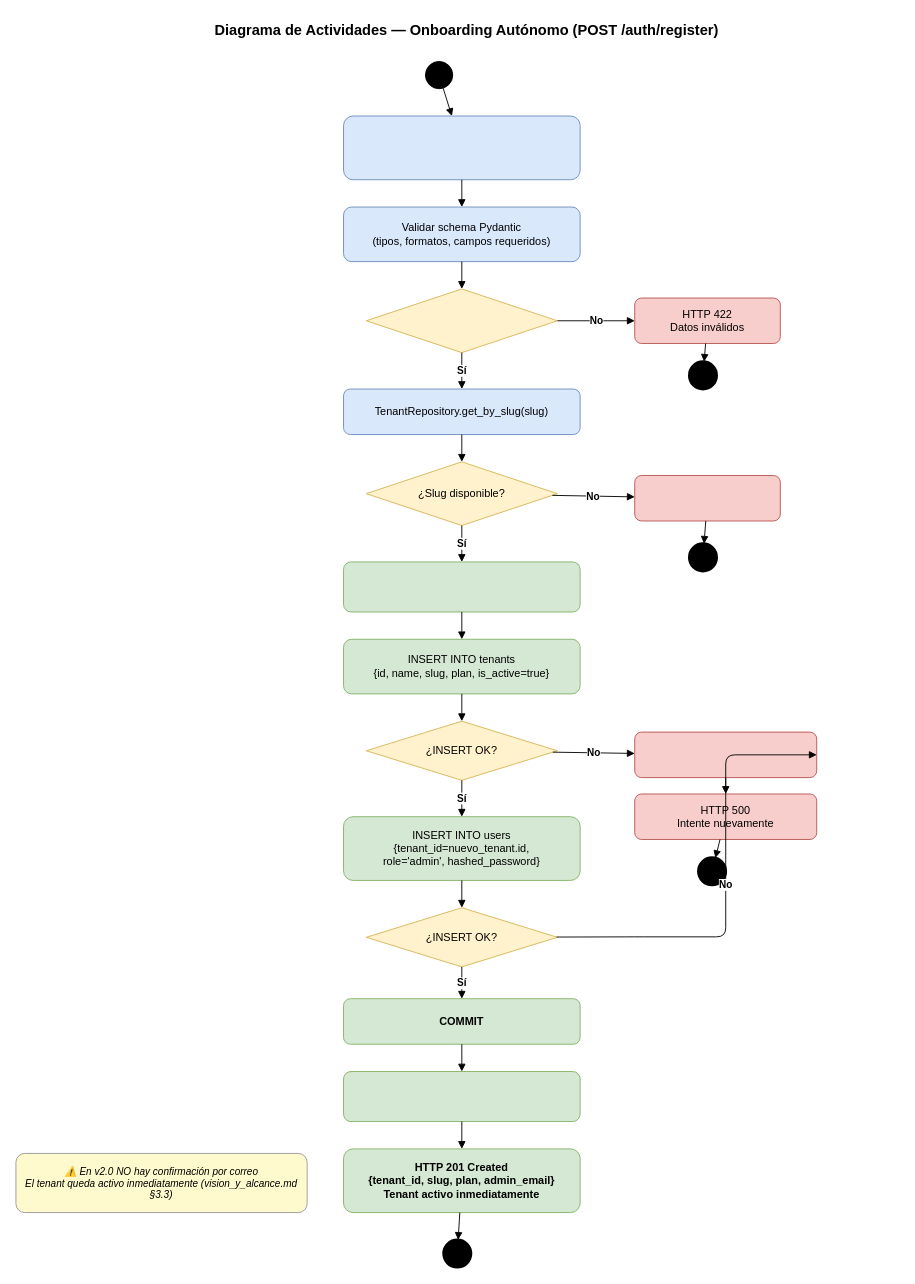
Some shapes in this 915 by 1284 pixel diagram are drawn without their labels. Here are the shapes that lost their labels. From the top down, the centre of each, then its label:
At point (461, 147): "Recibir datos de registro {nombre, slug, plan, admin_email, admin_password}".
At point (461, 320): "¿Schema válido?".
At point (707, 498): "HTTP 422 'Slug ya existe'".
At point (461, 586): "async with session.begin() BEGIN TRANSACTION".
At point (725, 754): "ROLLBACK automático (async with session.begin())".
At point (461, 1096): "SET Redis: tenant:{id}:status = active TTL 30 segundos".
